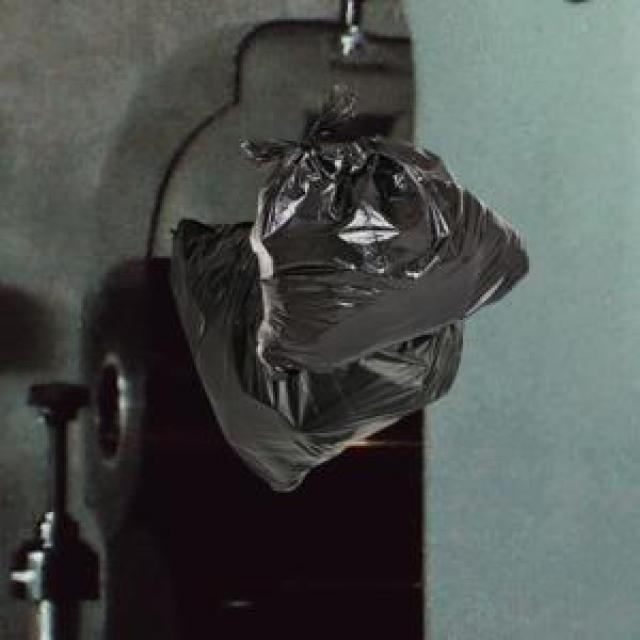waste: (171, 90, 529, 491)
